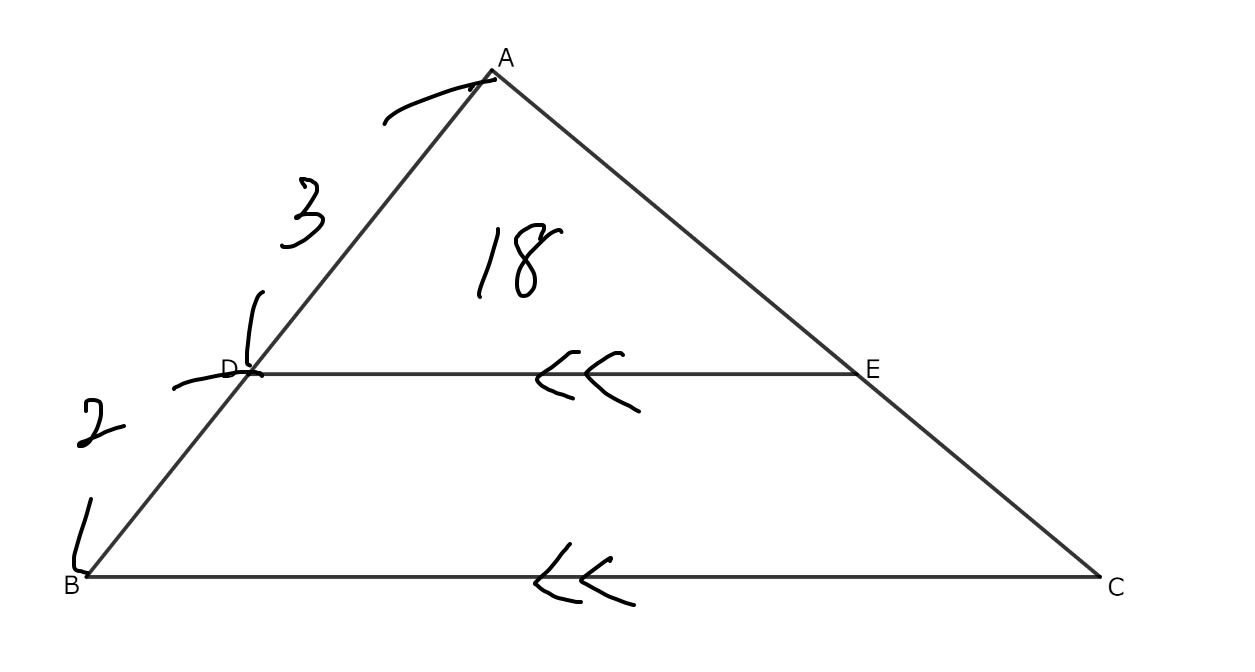Edge_Dparallel: (524, 535, 645, 621), (532, 339, 652, 423)
